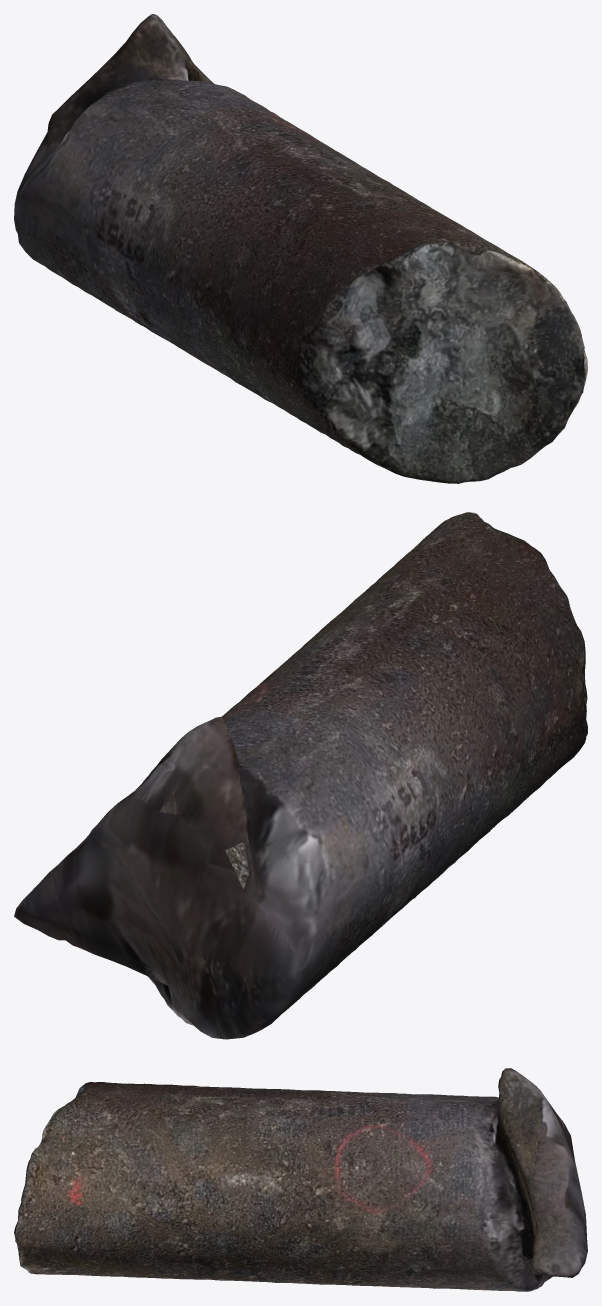
The model's file is PECLD07757 T1.glb.
3 renders of one model, top to bottom at view 1: azimuth 30°, elevation 25°; view 2: azimuth 150°, elevation 25°; view 3: azimuth 270°, elevation 25°, orthographic. The views are drawn at different scales.
Parts seen in each view (by area): view 1: baked_mesh; view 2: baked_mesh; view 3: baked_mesh.
Boxes of the visible parts, x1=… form: baked_mesh: x1=14, y1=14, x2=587, y2=483; baked_mesh: x1=14, y1=512, x2=587, y2=1039; baked_mesh: x1=14, y1=1068, x2=587, y2=1291.
Size of the model in its own units: 0.26 by 0.2601 by 0.6261.
Materials: 1 (1 with a texture image).
